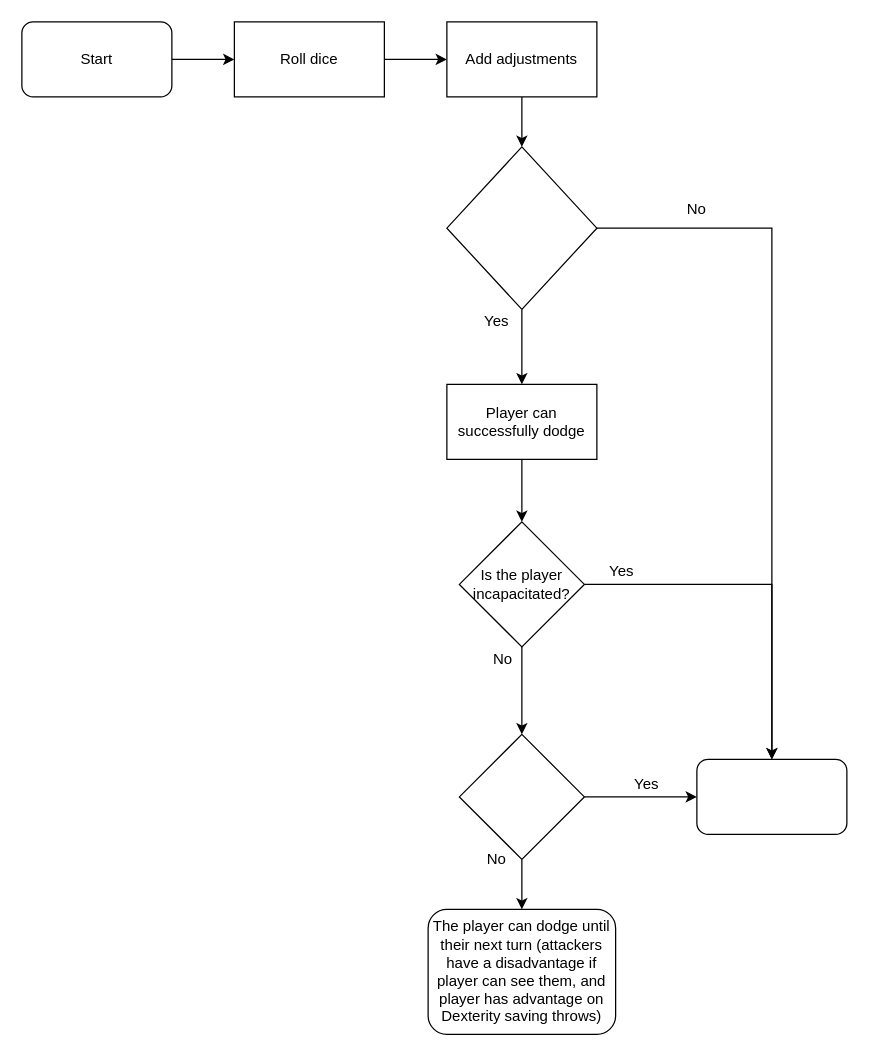
Image size: 869x1056. Some labels were removed from this diagram. The shapes that lost their labels are listed below. From the top down, each one's box as (x1, y1, x2, y2) in pixels, then its label:
(446, 146, 597, 309): Is roll high enough to dodge?
(458, 733, 584, 859): Is the player's speed = 0
(696, 758, 847, 834): Unable to dodge
